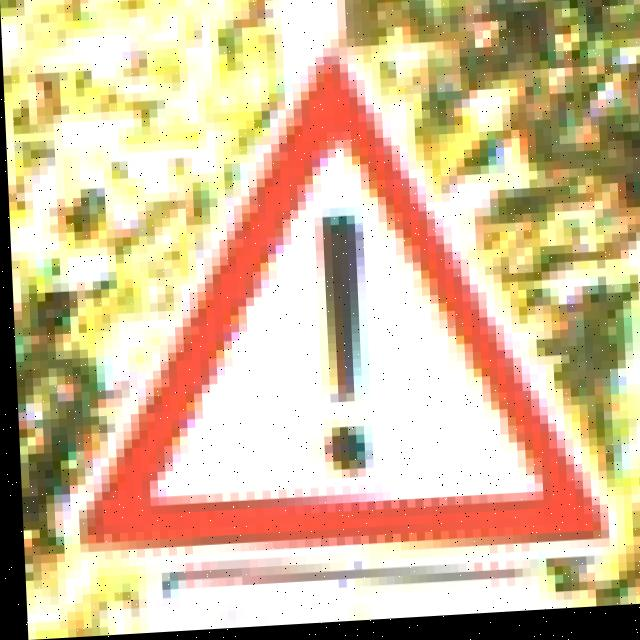warning: (90, 23, 621, 570)
